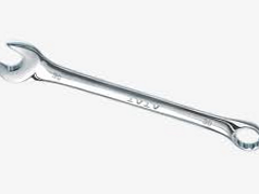wrench: (1, 34, 259, 154)
